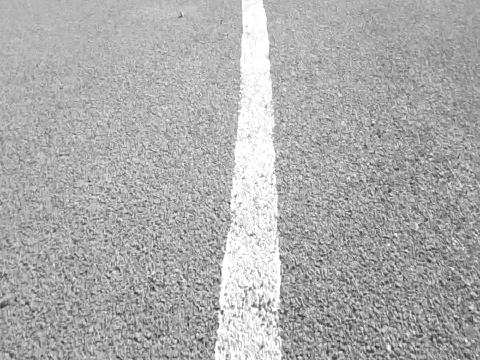Lines: (213, 0, 284, 360)
